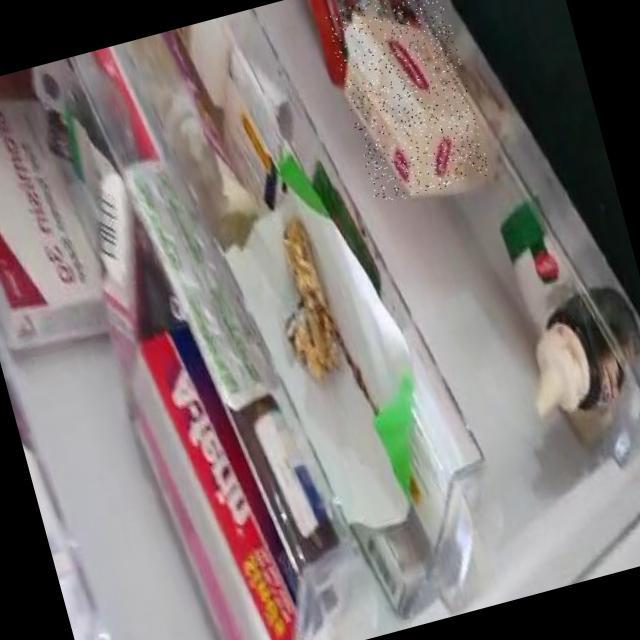milk: (323, 0, 490, 204)
